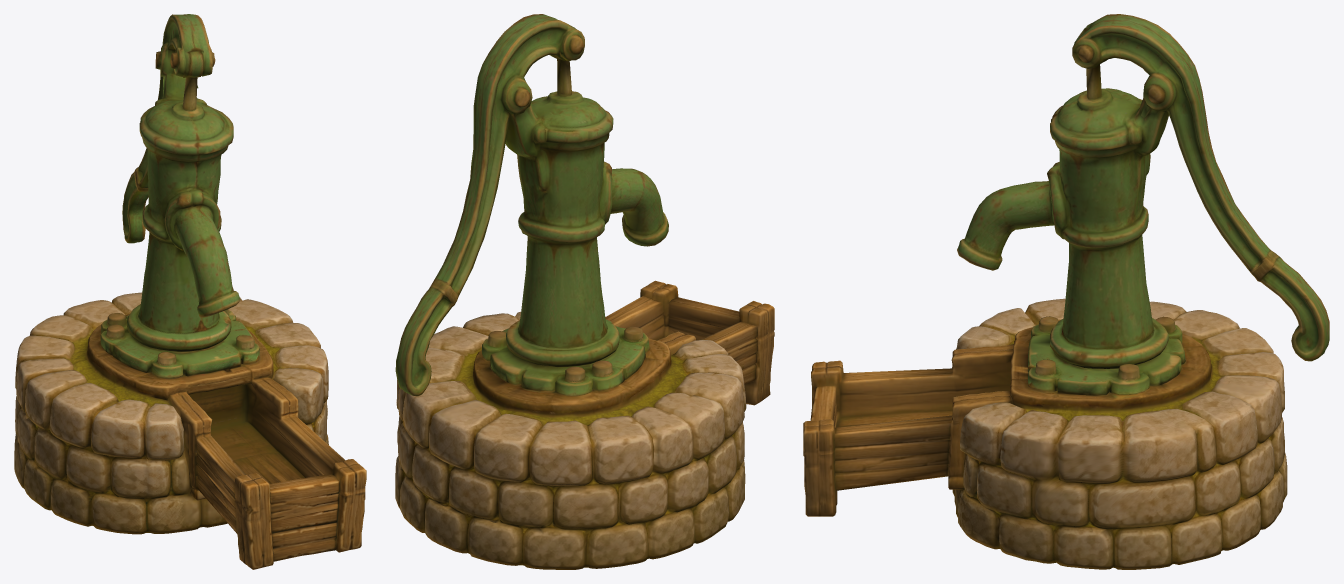
Rendered from hand_pump.glb.
3 views of the same model, side by side, from view 1: azimuth 30°, elevation 25°; view 2: azimuth 150°, elevation 25°; view 3: azimuth 270°, elevation 25° (orthographic). The views are drawn at different scales.
Parts seen in each view (by area): view 1: tripo_node_418695d4-f698-42bf-94a1-7e4d40a54c44; view 2: tripo_node_418695d4-f698-42bf-94a1-7e4d40a54c44; view 3: tripo_node_418695d4-f698-42bf-94a1-7e4d40a54c44.
Part boxes in pixels (box(x1,y1,x2,y2)): tripo_node_418695d4-f698-42bf-94a1-7e4d40a54c44: box(14, 14, 366, 569); tripo_node_418695d4-f698-42bf-94a1-7e4d40a54c44: box(395, 14, 774, 569); tripo_node_418695d4-f698-42bf-94a1-7e4d40a54c44: box(803, 14, 1329, 569).
Size of the model in its own units: 0.6358 by 0.9758 by 0.949.
1 material, 1 textured.
